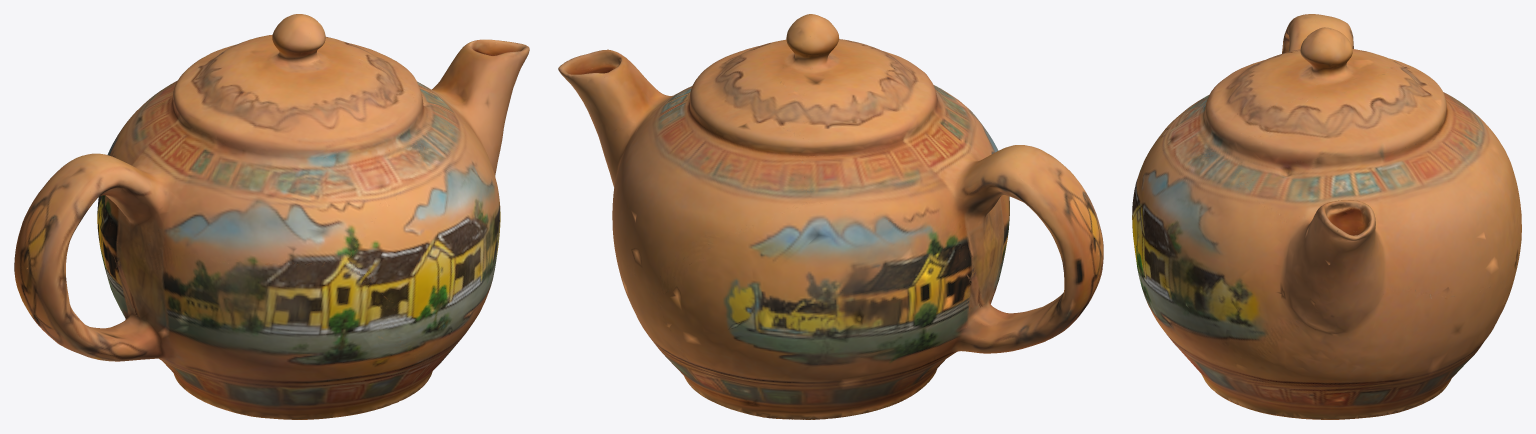
The model's file is amtra.glb.
The picture shows the model from 3 angles, left to right: view 1: azimuth 30°, elevation 25°; view 2: azimuth 150°, elevation 25°; view 3: azimuth 270°, elevation 25°; orthographic projection. The views are drawn at different scales.
Bounding box in the file's own units: 2 × 1.3 × 1.34.
Materials: 1 (1 with a texture image).
